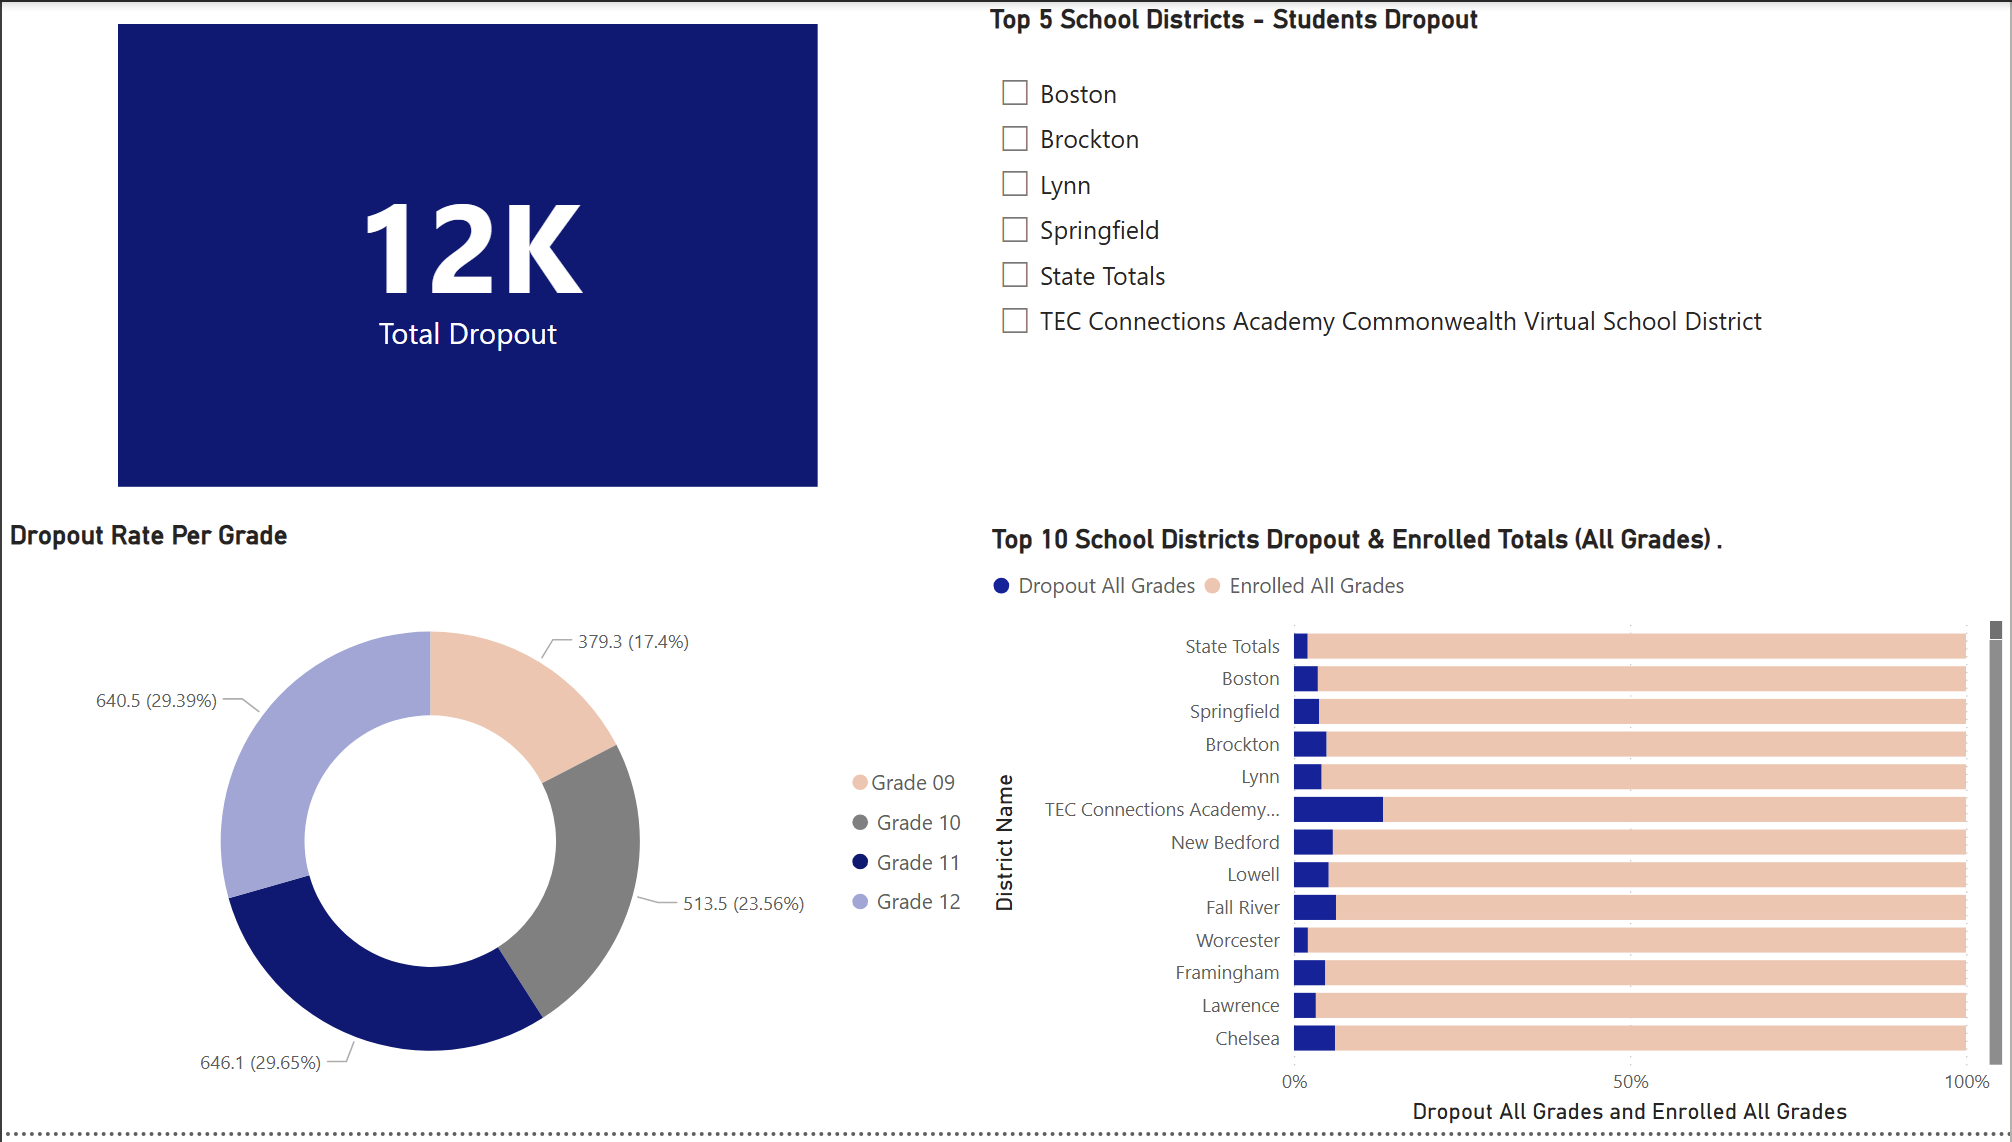

What the dashboard file says about the page in this screenshot:
{"tool":"powerbi","page":{"name":"Dropout Rate Analysis","canvas":[1280,720],"ordinal":0},"visuals":[{"type":"slicer","title":"Top 5 School Districts - Students Dropout","fields":{"Values":["Dropout Report.District Name"]},"box":[624.4,1.3,655.6,331.1],"z":1000},{"type":"donutChart","title":"Dropout Rate Per Grade","fields":{"Y":["Sum(Dropout Report.% Dropout Grade 09)","Sum(Dropout Report.% Dropout Grade 10)","Sum(Dropout Report.% Dropout Grade 11)","Sum(Dropout Report.% Dropout Grade 12)"]},"box":[0,330.1,626,390.4],"z":2000},{"type":"card","fields":{"Values":["Dropout Report.Total Dropout"]},"box":[73.8,14,446,295],"z":3000},{"type":"hundredPercentStackedBarChart","title":"Top 10 School Districts Dropout & Enrolled Totals (All Grades) .","fields":{"Category":["Dropout Report.District Name"],"Y":["Sum(Dropout Report.# Dropout All Grades)","Sum(Dropout Report.# Enrolled Grades 09 through 12)"]},"box":[626,333,654,387],"z":4000}]}

Visuals, with their boxes in screenshot pixels (x1, y1, x2, y2), scaled from the page's 1280x720 canvas onto the 2012x1142 screenshot:
"Top 5 School Districts - Students Dropout" slicer: pyautogui.locateOnScreen(981, 2, 2011, 527)
"Dropout Rate Per Grade" donutChart: pyautogui.locateOnScreen(0, 524, 984, 1141)
card - Dropout Report.Total Dropout: pyautogui.locateOnScreen(116, 22, 817, 490)
"Top 10 School Districts Dropout & Enrolled Totals (All Grades) ." hundredPercentStackedBarChart: pyautogui.locateOnScreen(984, 528, 2011, 1141)
